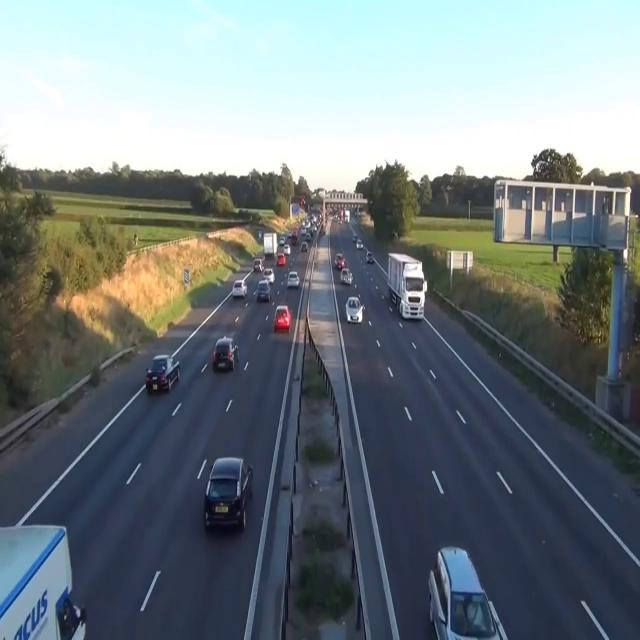belum terisi: (416, 536, 506, 640), (196, 444, 259, 544), (386, 243, 427, 326), (204, 329, 247, 378), (142, 350, 180, 396), (339, 292, 370, 329), (270, 301, 294, 339), (254, 276, 274, 310), (230, 274, 248, 302)
